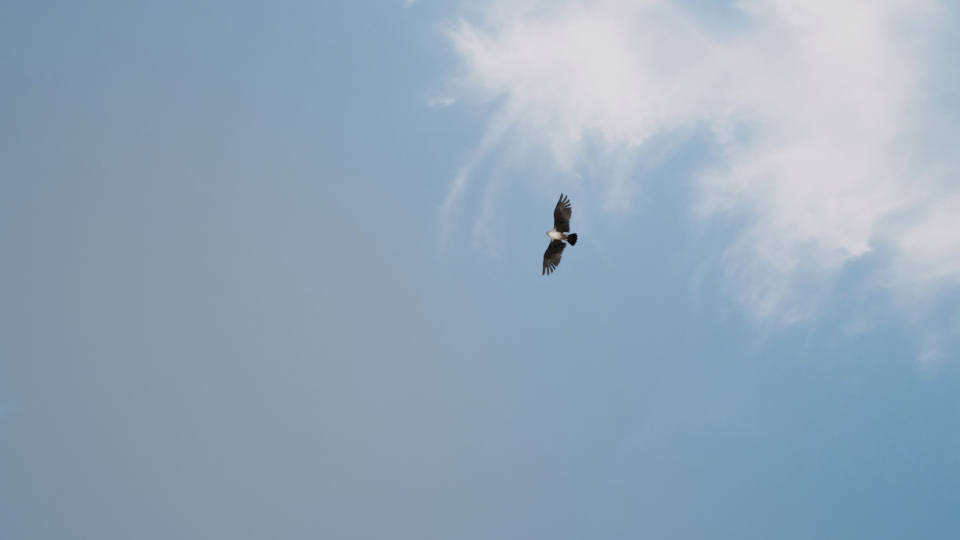bird: (537, 193, 579, 275)
